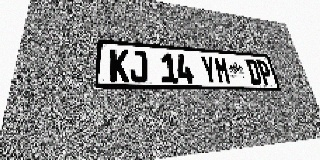1: (159, 52, 178, 83)
4: (175, 54, 194, 83)
D: (245, 59, 263, 85)
J: (129, 50, 148, 82)
K: (109, 49, 129, 82)
M: (213, 57, 232, 84)
P: (256, 60, 274, 85)
Y: (200, 56, 218, 84)
